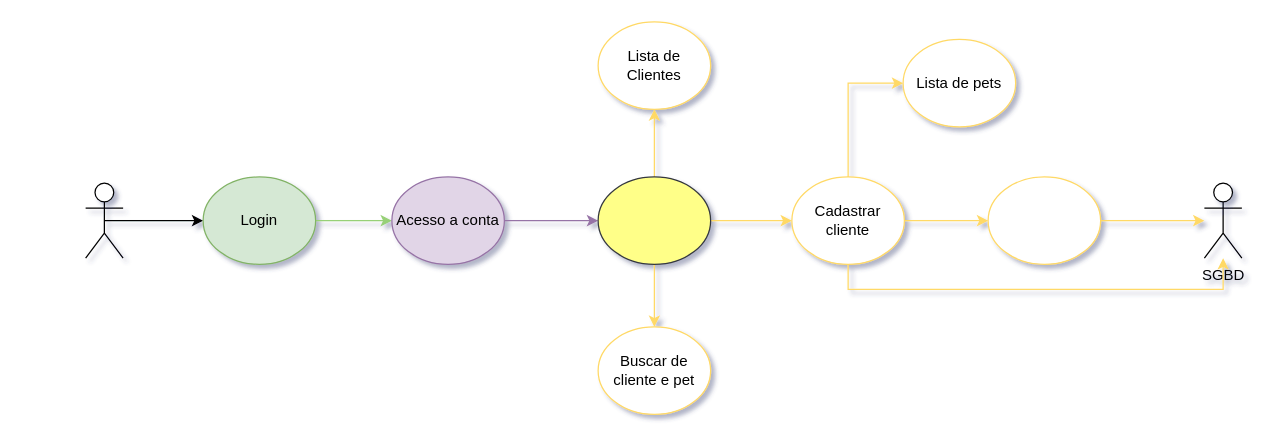
This 1274x444 diagram has some shape labels left out. Each missing label, with the box of its shape:
Acesso aos Clientes: (597, 176, 711, 264)
Cadastrar Pet: (987, 176, 1101, 264)
Empreendedor/Utilizador: (84, 182, 123, 258)
